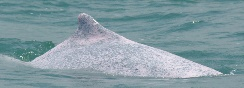fin: (30, 10, 226, 81)
